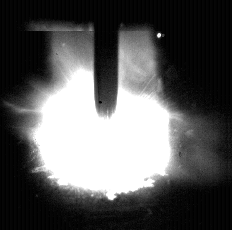arame: (96, 0, 119, 119)
poca: (34, 0, 170, 230)
